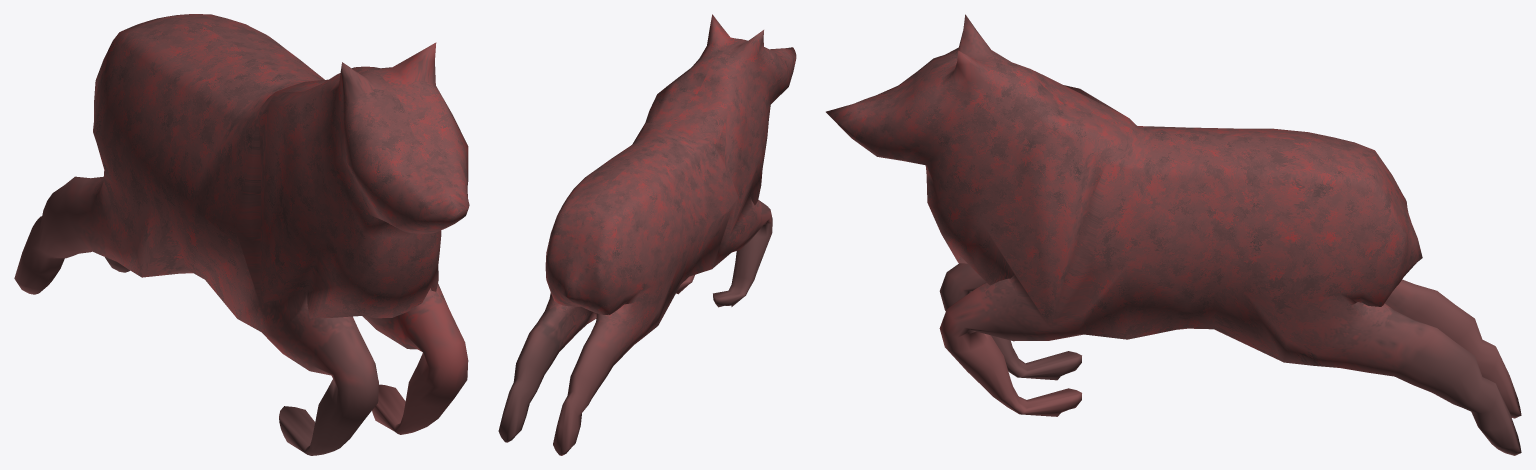
Rendered from piesblend_000015.obj.
3 views of the same model, side by side, from view 1: azimuth 30°, elevation 25°; view 2: azimuth 150°, elevation 25°; view 3: azimuth 270°, elevation 25° (orthographic). The views are drawn at different scales.
Visible parts, largest first — view 1: Cube; view 2: Cube; view 3: Cube.
Boxes of the visible parts, x1,y1,x2,y2 form: Cube: (14,14,469,455); Cube: (498,14,796,455); Cube: (826,14,1521,455).
Size of the model in its own units: 2.55 by 6.28 by 9.88.
1 material, 1 textured.
